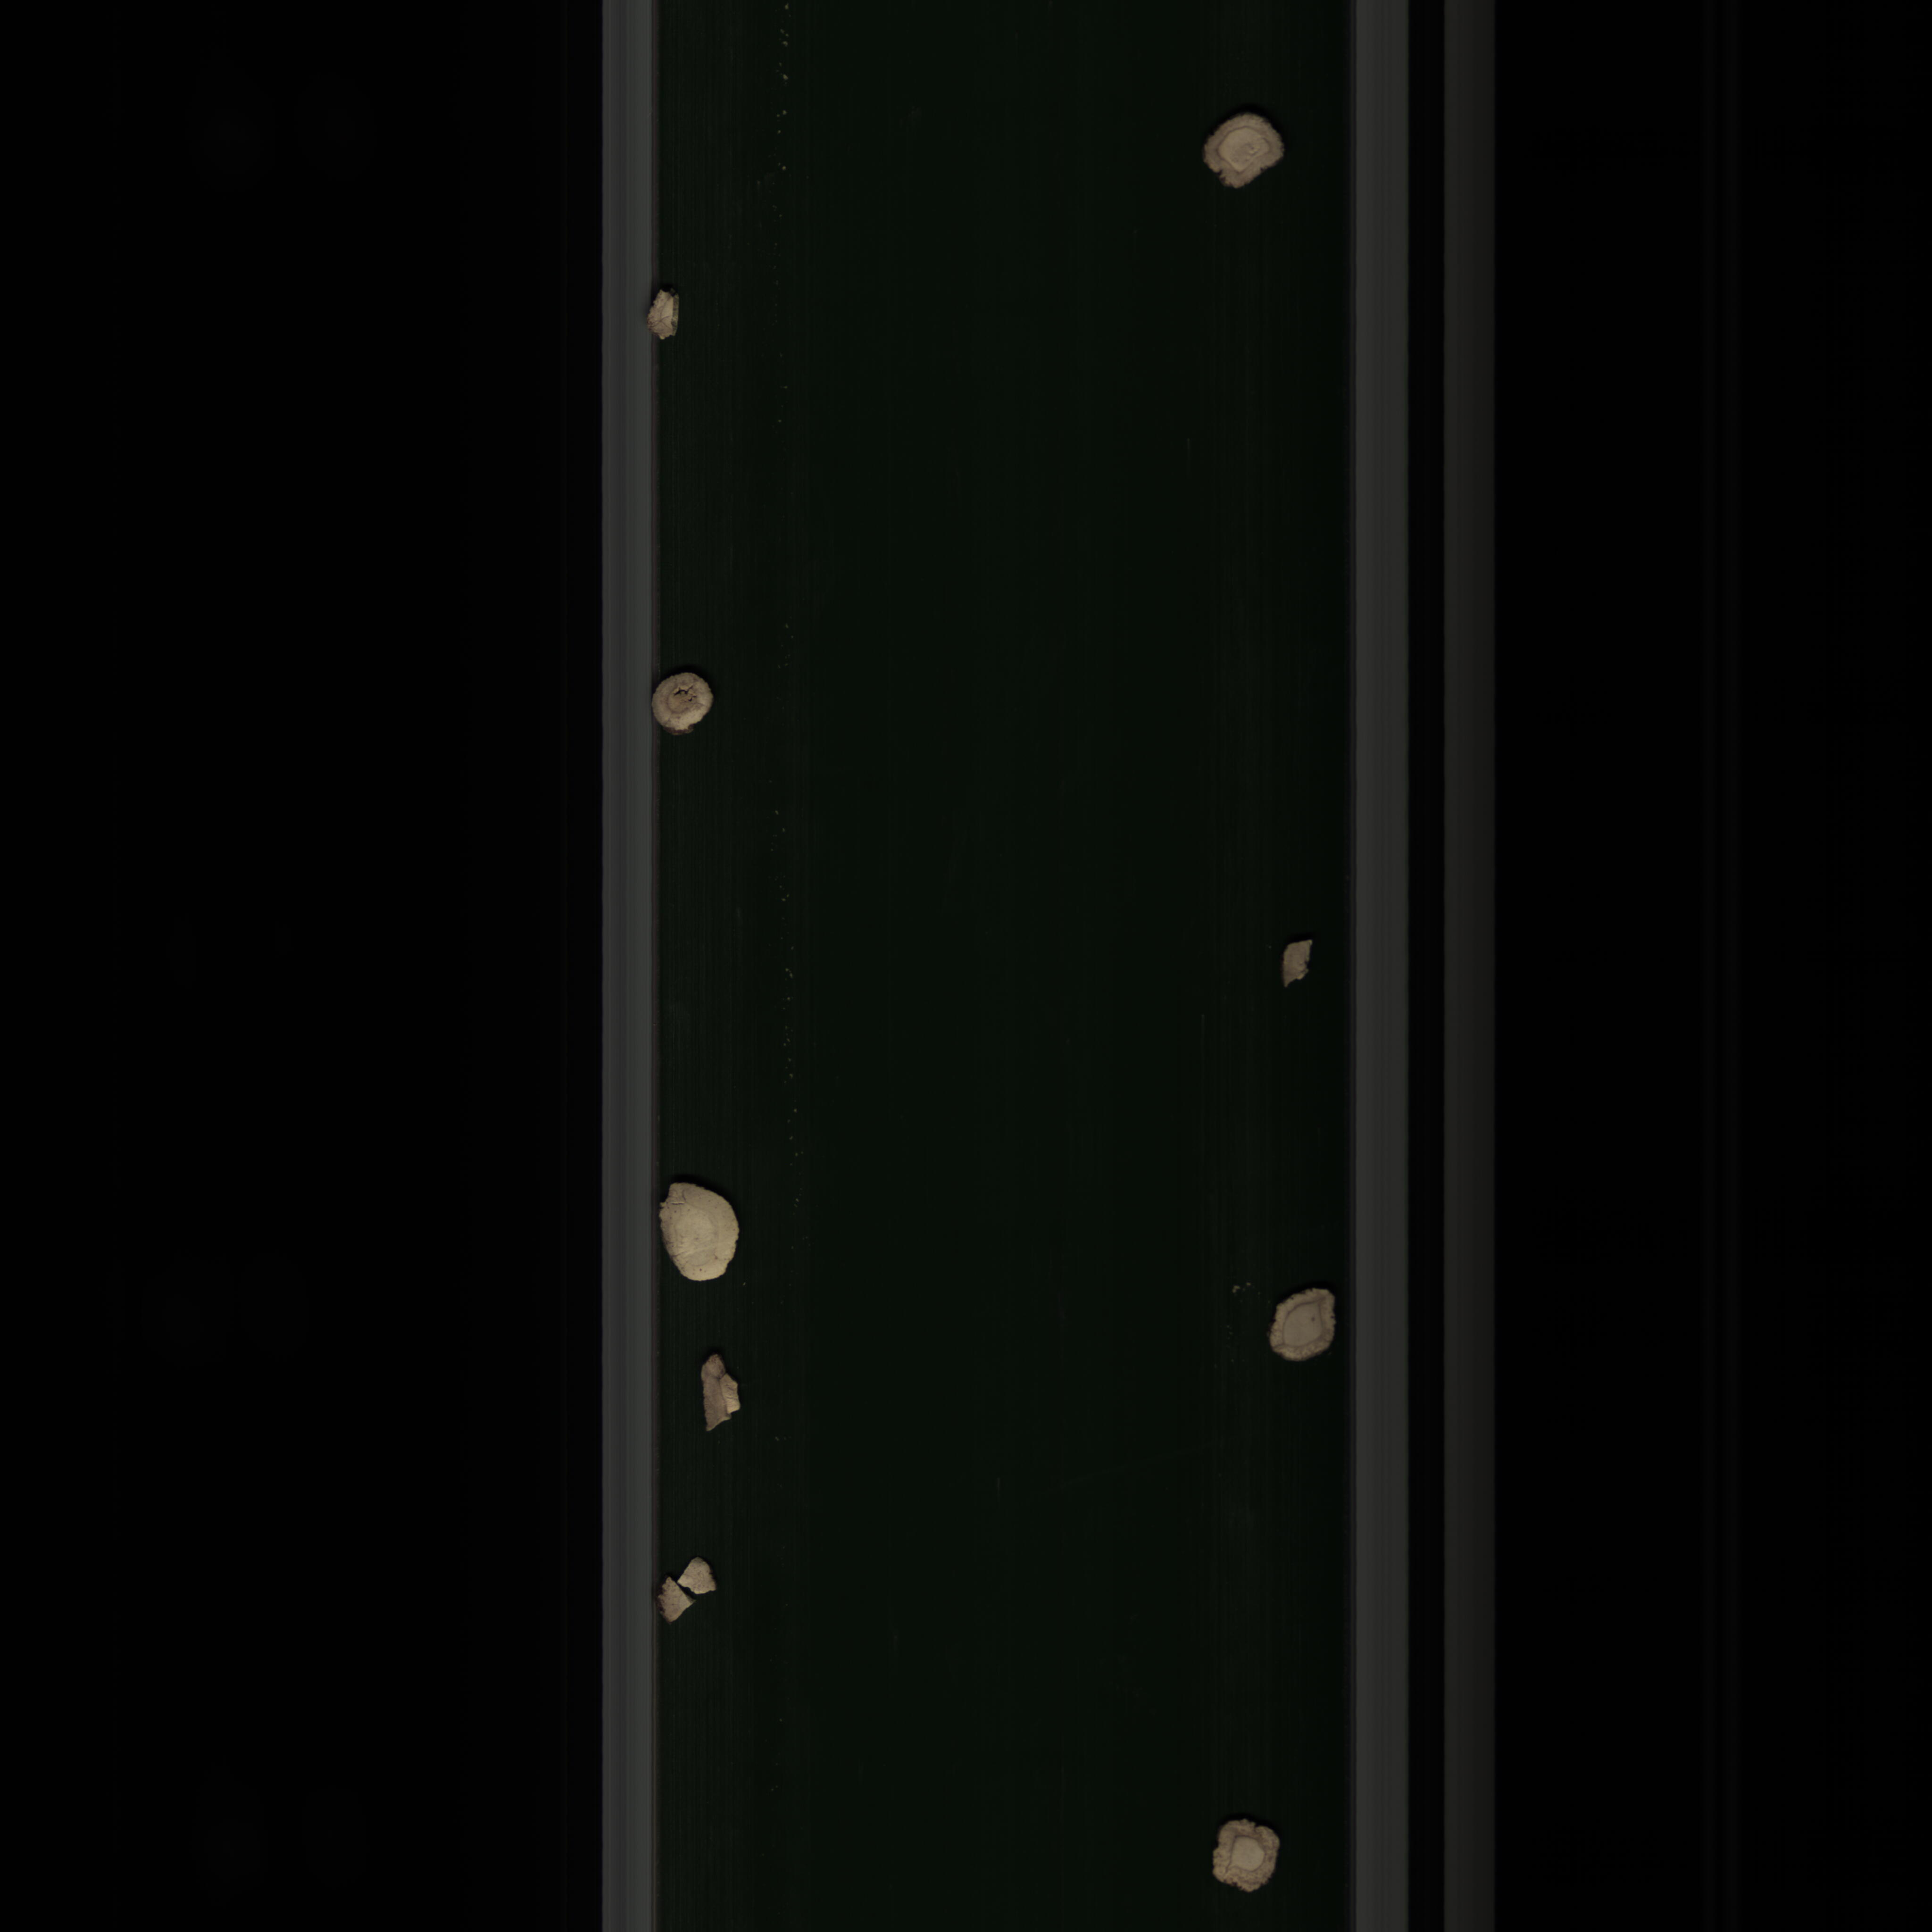debris: (648, 1550, 727, 1628), (686, 1348, 748, 1437), (640, 280, 694, 345), (1270, 927, 1318, 989)
distortion: (1203, 1808, 1290, 1907)
moldy: (637, 663, 722, 740)
